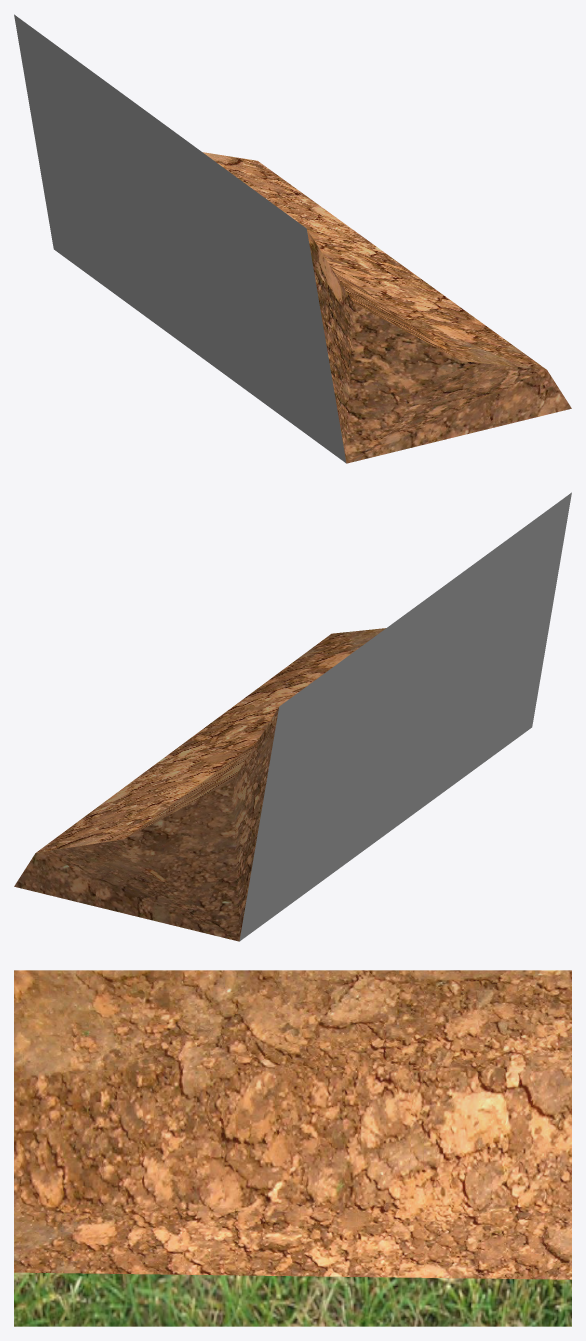
File: slope2.fbx
The picture shows the model from 3 angles, top to bottom: view 1: azimuth 30°, elevation 25°; view 2: azimuth 150°, elevation 25°; view 3: azimuth 270°, elevation 25°; orthographic projection. The views are drawn at different scales.
Visible parts, largest first — view 1: pCube1; view 2: pCube1; view 3: pCube1.
Boxes of the visible parts, <box> form: pCube1: <box>14,14,571,463</box>; pCube1: <box>14,492,571,941</box>; pCube1: <box>14,970,571,1326</box>.
Bounding box in the file's own units: 6.65 × 5.87 × 12.72.
3 materials, 2 textured.
